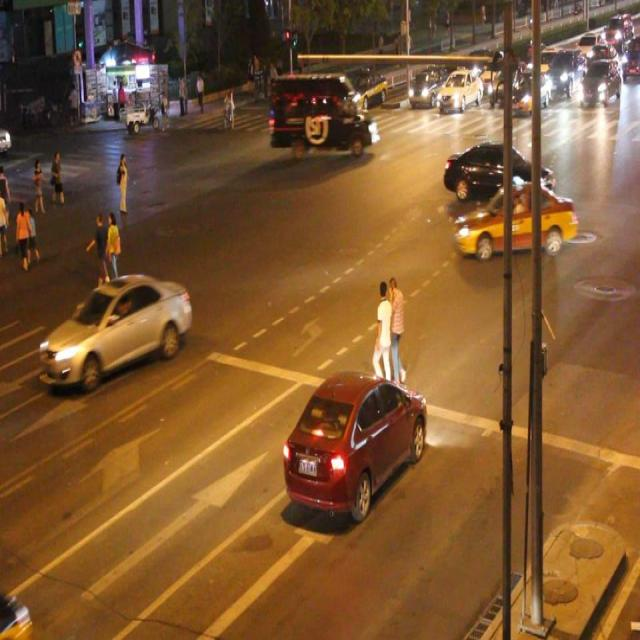car: (283, 368, 427, 519), (36, 271, 192, 389), (454, 180, 576, 263), (445, 141, 552, 205), (438, 68, 482, 112), (344, 68, 386, 110), (408, 66, 447, 106)
truck: (270, 72, 378, 156)
